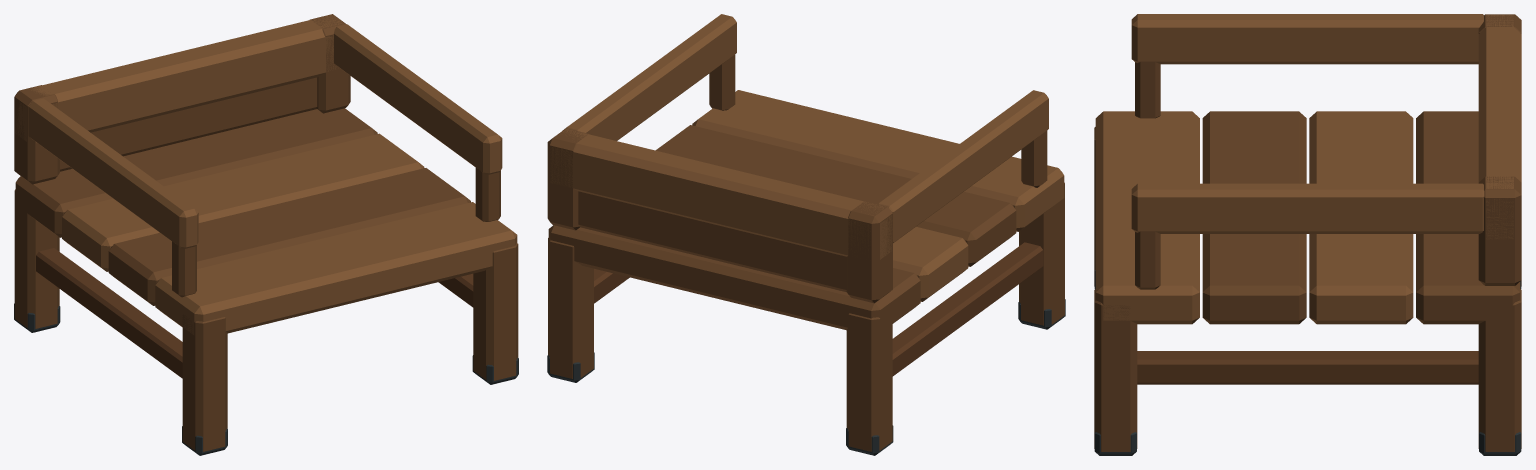
File: wooden_chair.glb
The picture shows the model from 3 angles, left to right: view 1: azimuth 30°, elevation 25°; view 2: azimuth 150°, elevation 25°; view 3: azimuth 270°, elevation 25°; orthographic projection. The views are drawn at different scales.
Visible parts, largest first — view 1: wooden_chair; view 2: wooden_chair; view 3: wooden_chair.
Part boxes in pixels (x1,y1,x2,y2): wooden_chair: (14,14,518,455); wooden_chair: (547,14,1065,455); wooden_chair: (1094,14,1521,455).
Bounding box in the file's own units: 2 × 1.38 × 2.
